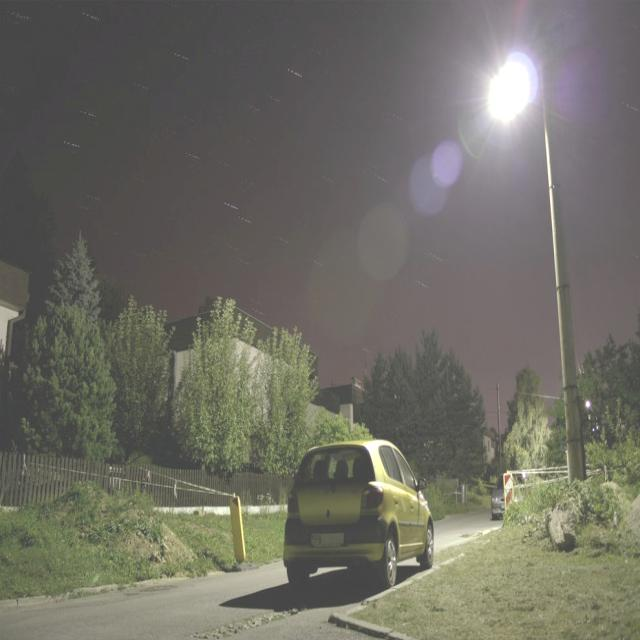Car: (278, 438, 436, 593)
